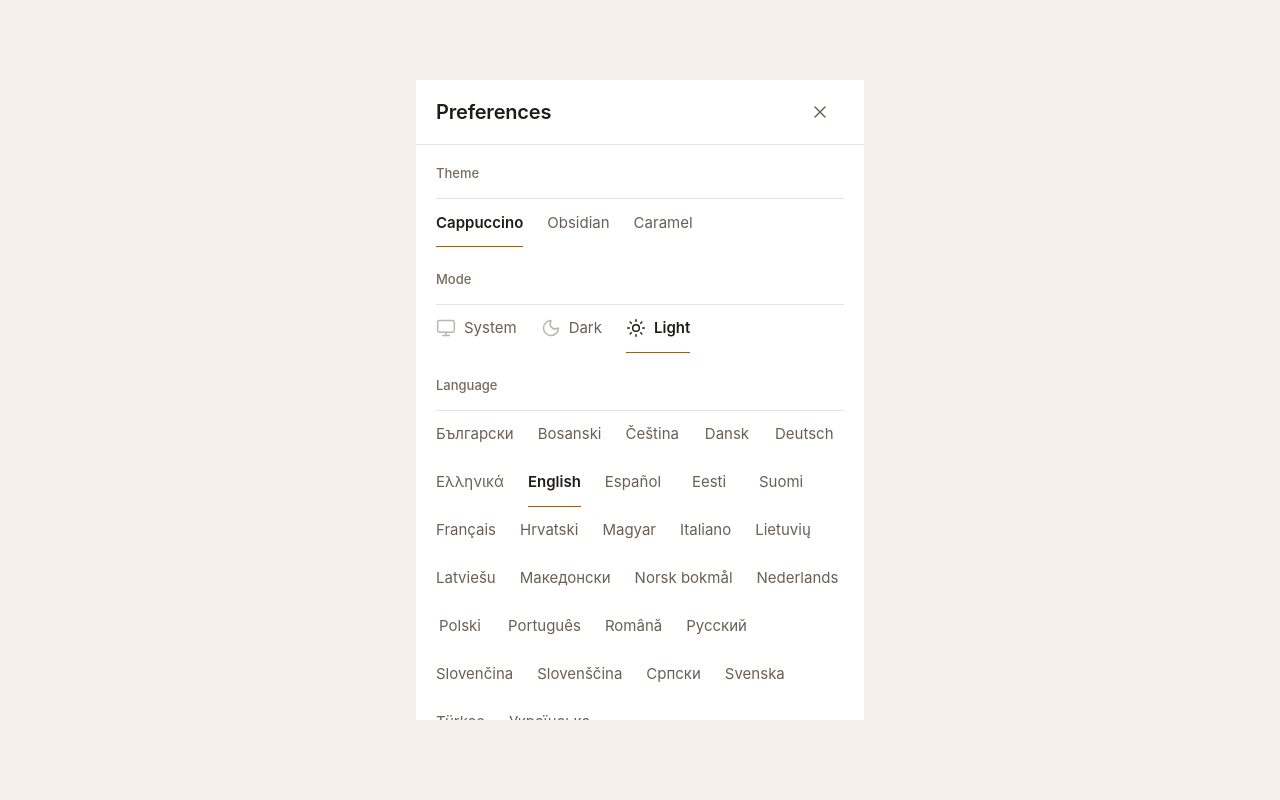
Test: PreferencesModal › obsidian dims the mode row without erasing the stored mode
Click the radio button labelled "Obsidian" at (578, 223), box 547,199 -> 610,247
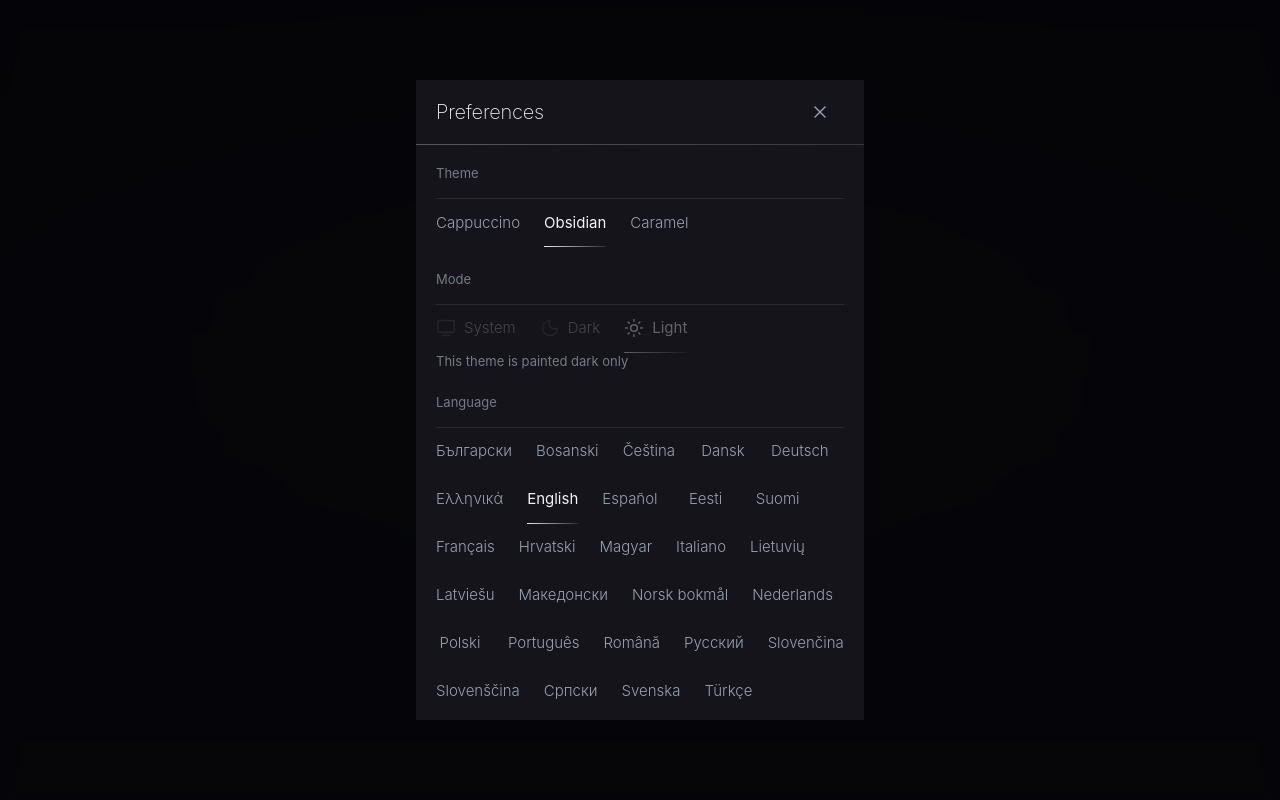
Expected: the radio buttons read "System", "Dark", "Light", in this order, 436,305 -> 516,353; 540,305 -> 600,353; 624,305 -> 687,353
Expected: the text "This theme is painted dark only" is shown, 436,353 -> 628,370
